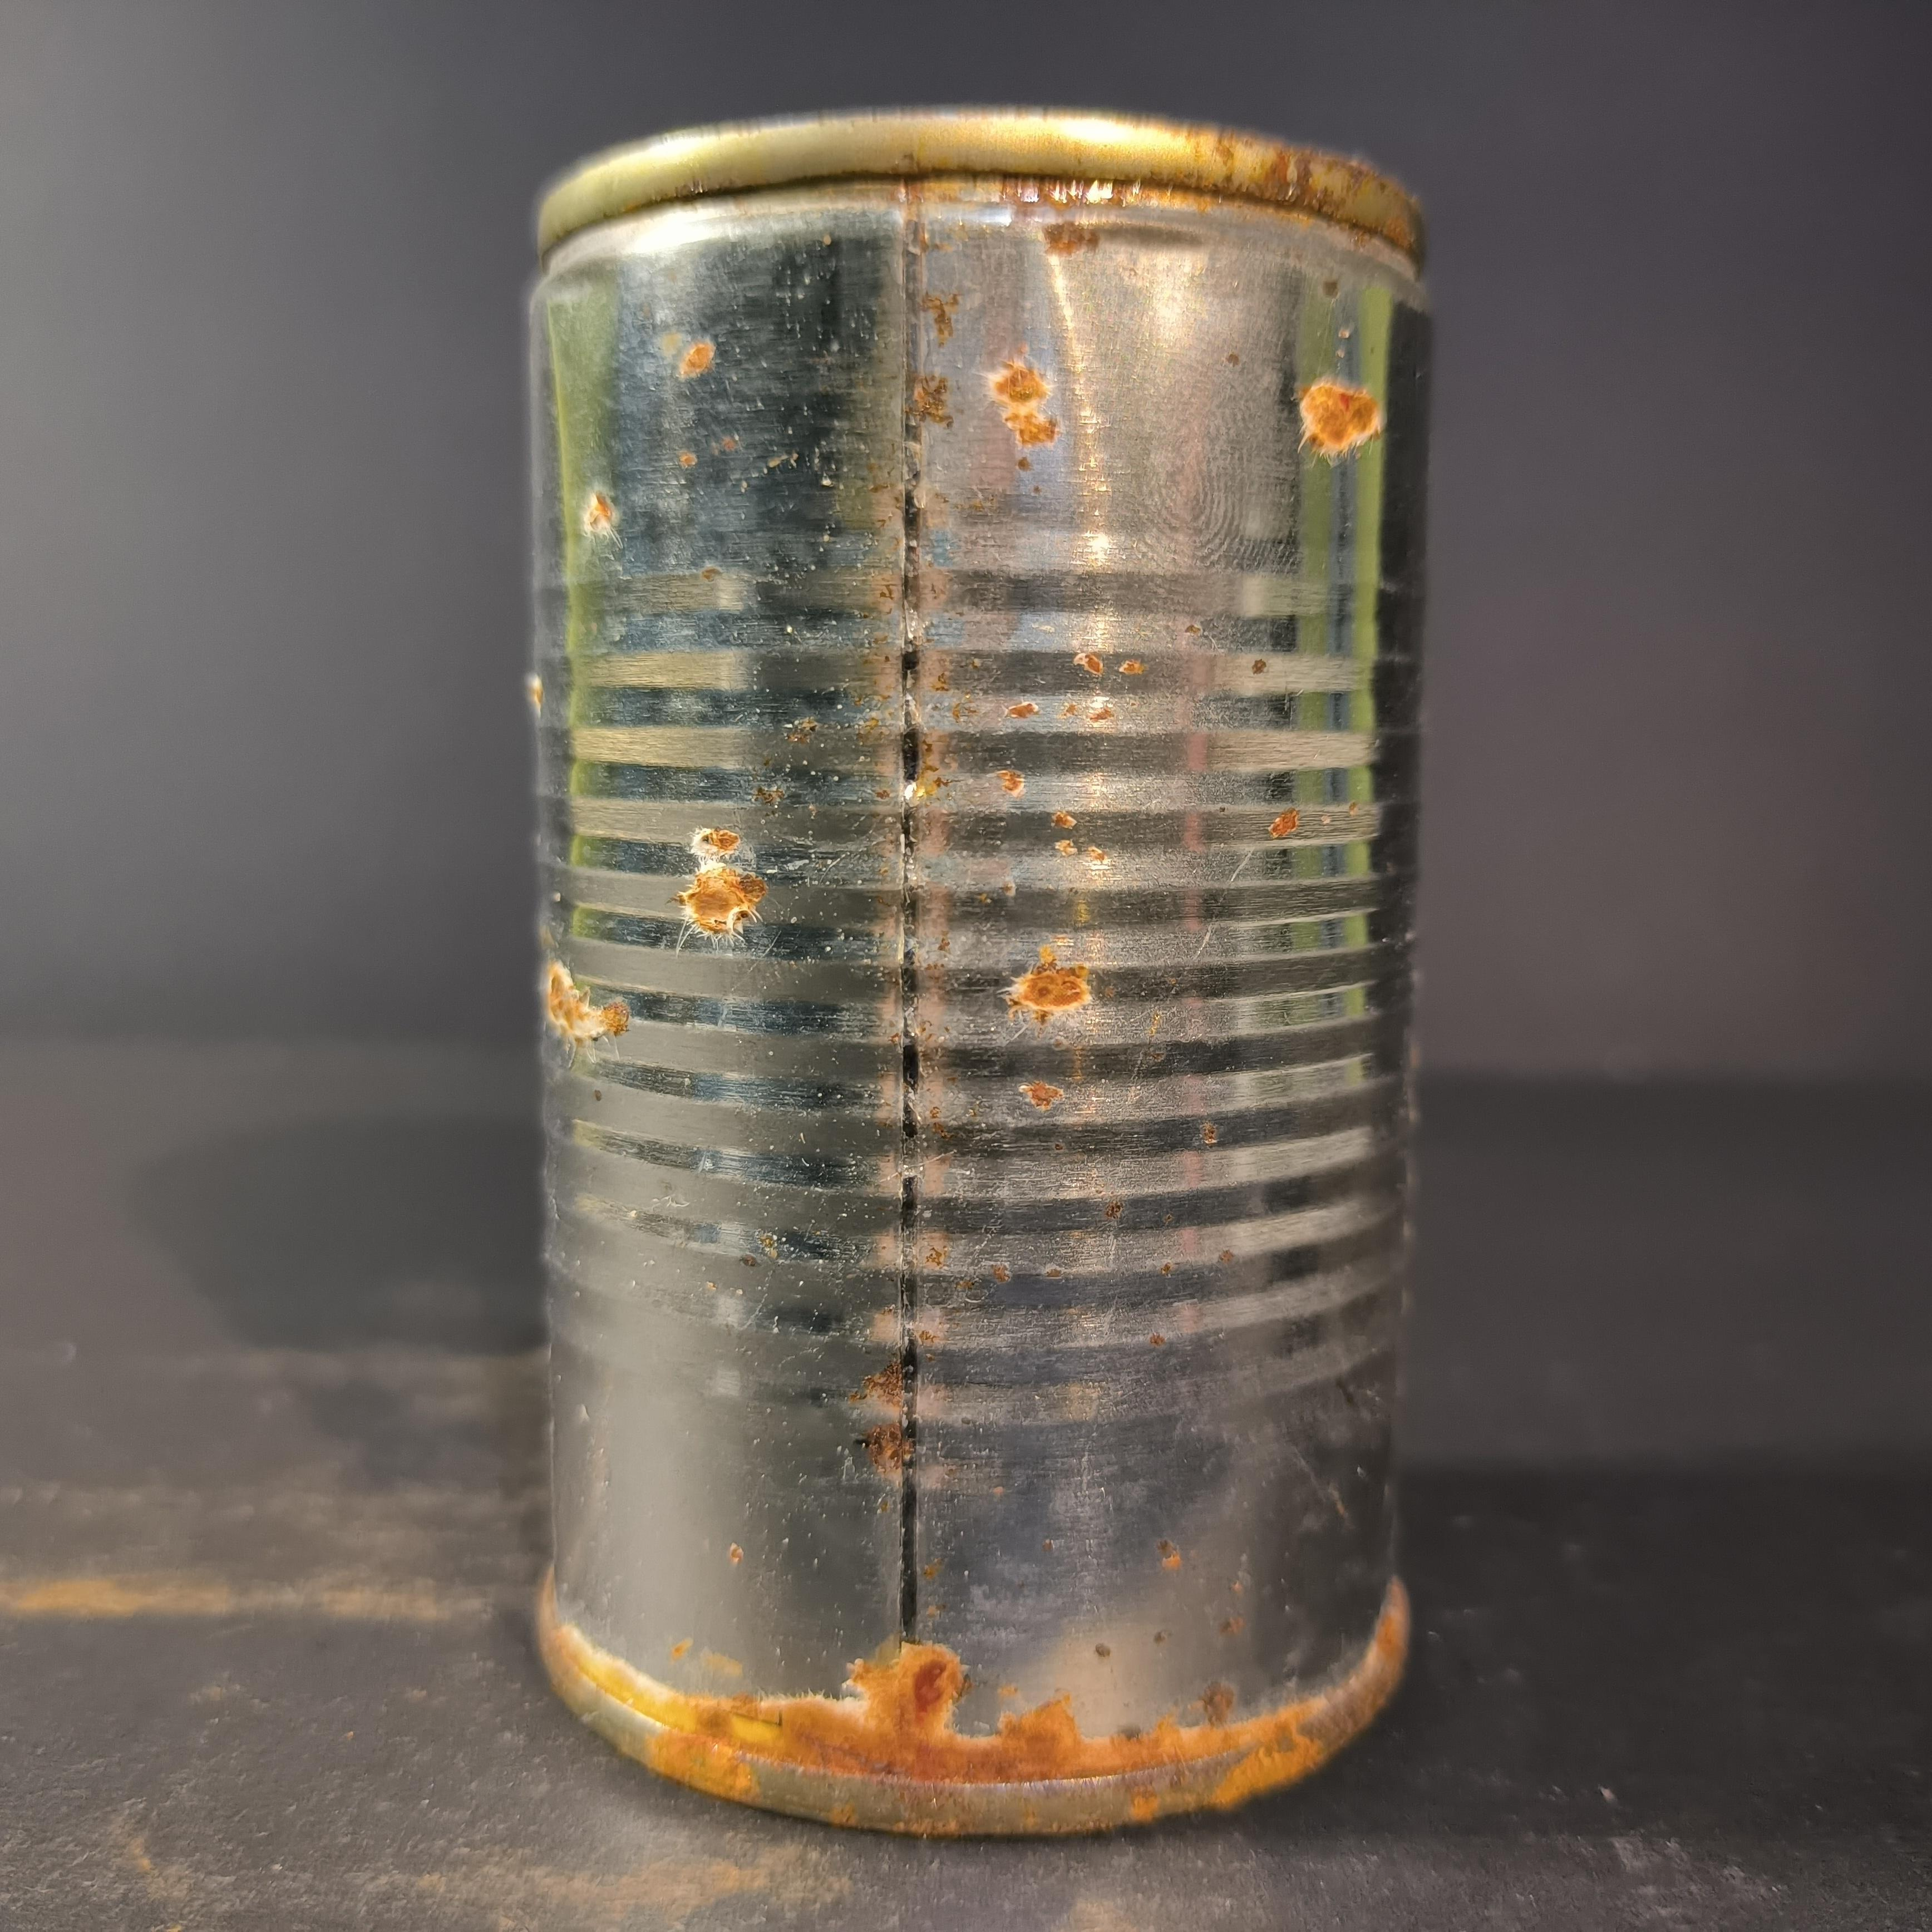Rusted: (487, 64, 1468, 1877)
